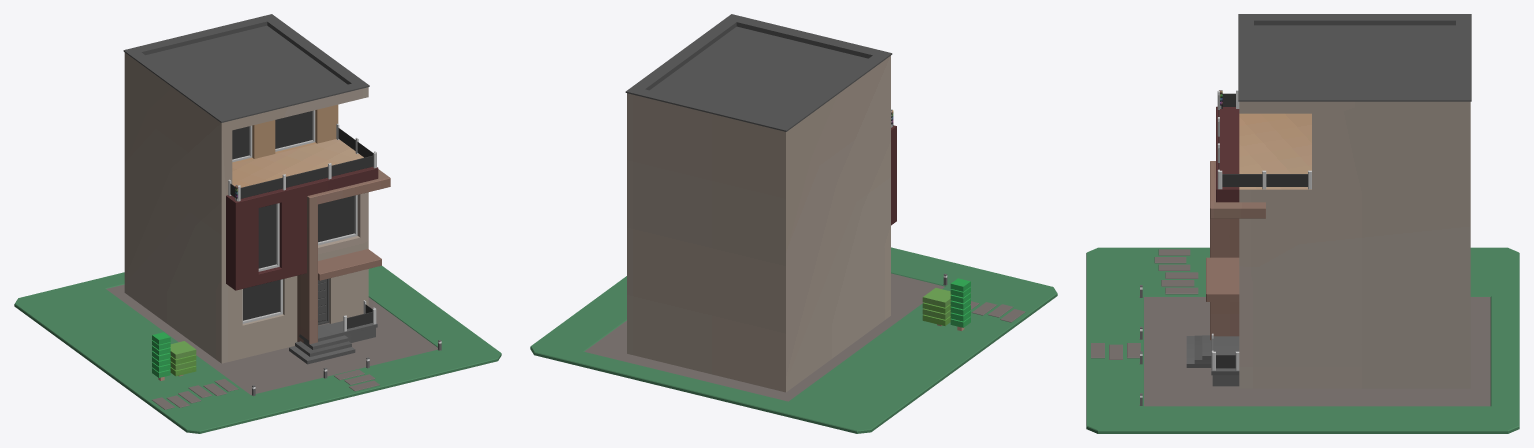
Rendered from house-05.glb.
3 views of the same model, side by side, from view 1: azimuth 30°, elevation 25°; view 2: azimuth 150°, elevation 25°; view 3: azimuth 270°, elevation 25° (orthographic). The views are drawn at different scales.
Parts seen in each view (by area): view 1: house_05; view 2: house_05; view 3: house_05.
Boxes of the visible parts, x1,y1,x2,y2 form: house_05: [14, 14, 501, 433]; house_05: [530, 14, 1057, 433]; house_05: [1086, 14, 1519, 433].
Size of the model in its own units: 15 by 11.13 by 15.
1 material, 1 textured.
